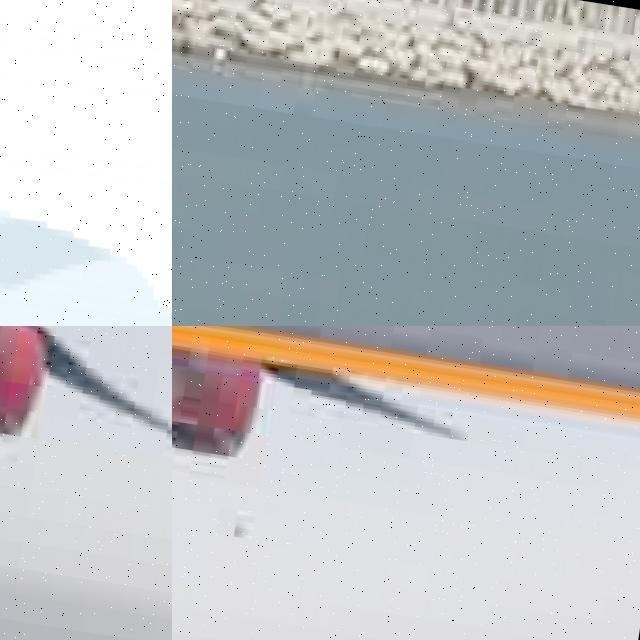drone: (0, 0, 172, 326)
